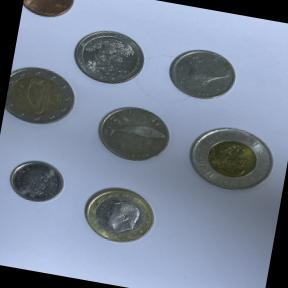coin: (179, 116, 282, 202), (72, 175, 166, 254), (89, 98, 177, 170), (2, 62, 85, 135), (66, 22, 152, 92), (1, 152, 72, 212), (20, 0, 78, 26)
